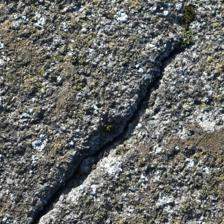Crack: (35, 42, 188, 219)
